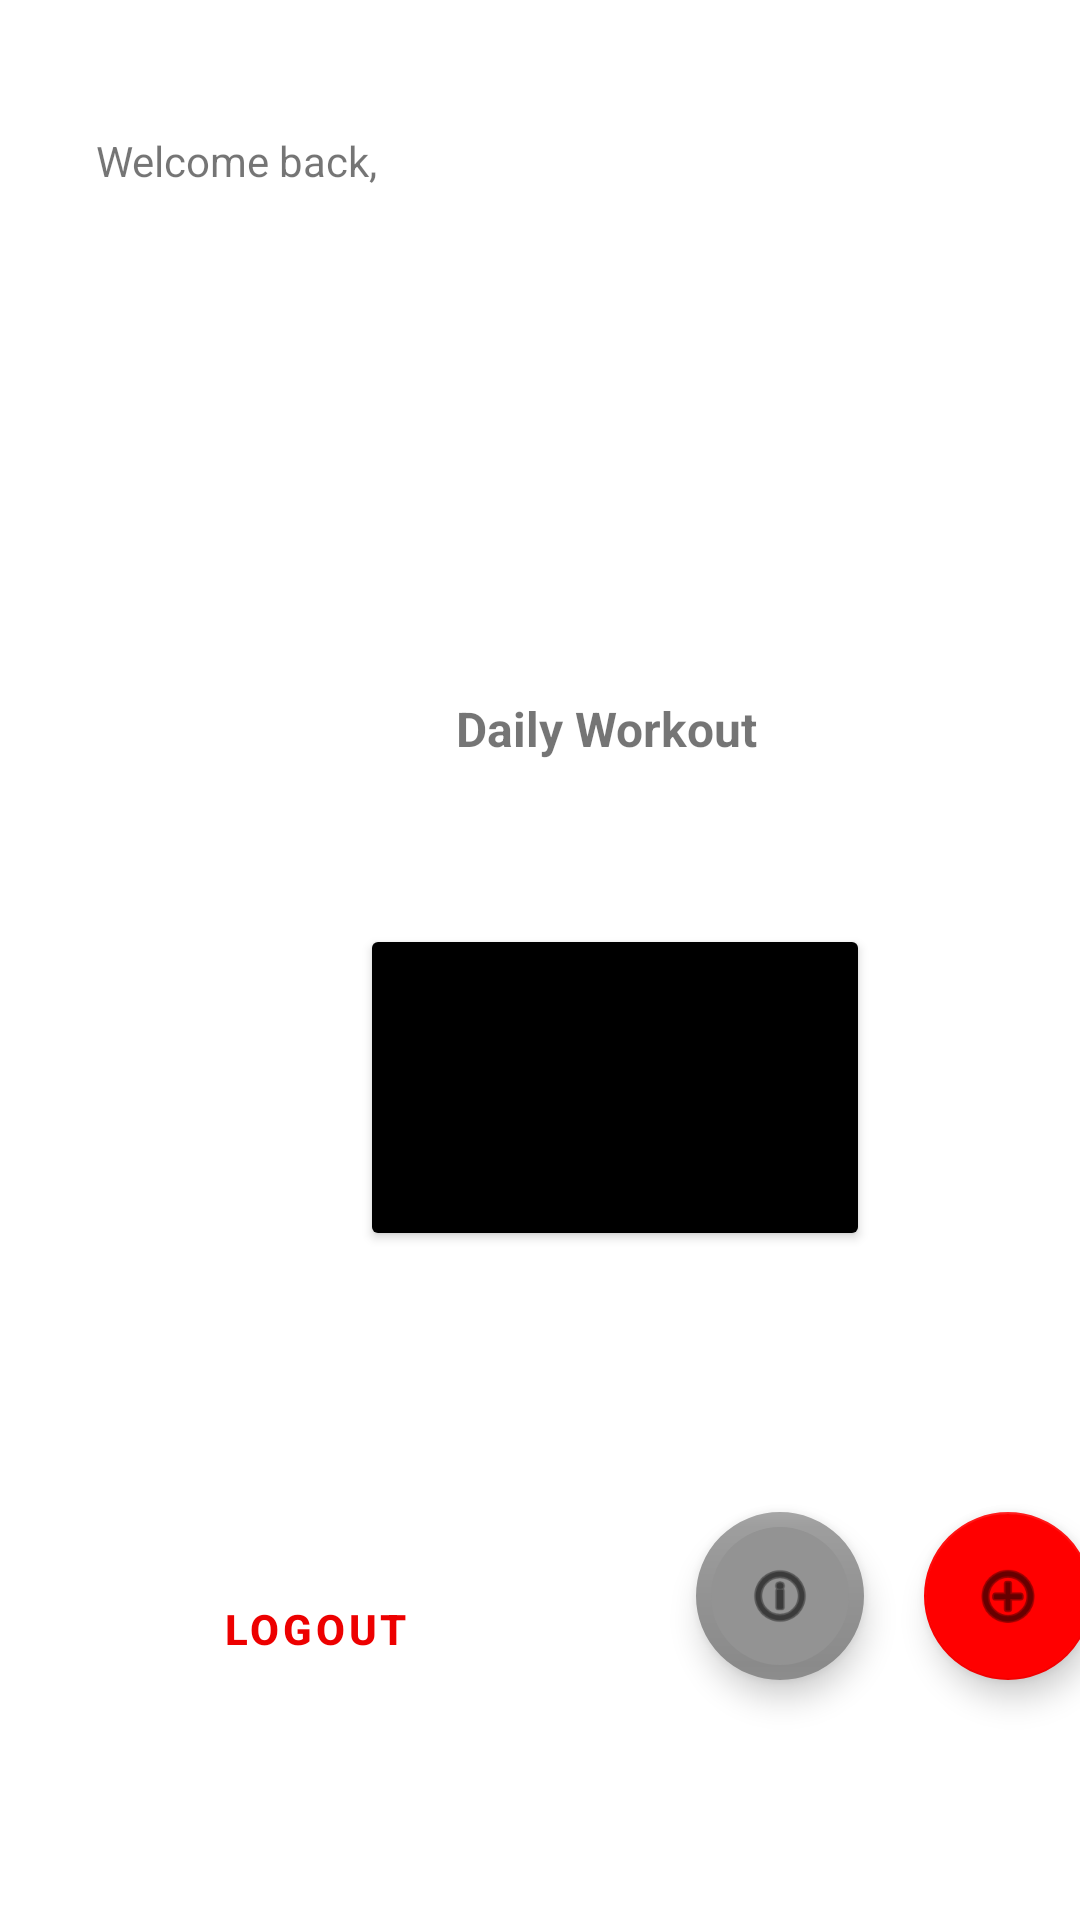

Where to tap for icons on this 1080 × 1920 app screen, as (x=x, y=y):
add: (x=1002, y=1596)
info details: (x=780, y=1596)
